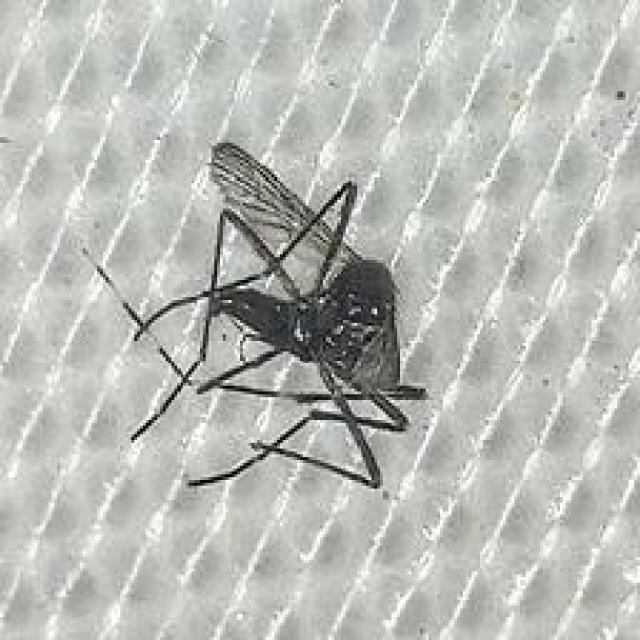Aedes albopictus: (81, 138, 430, 493)
